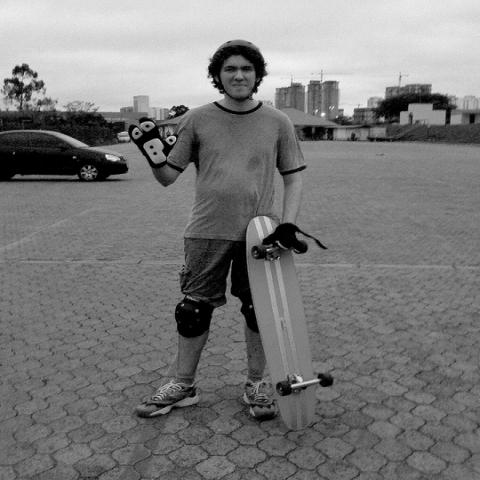car: (4, 130, 132, 184), (118, 133, 130, 142)
